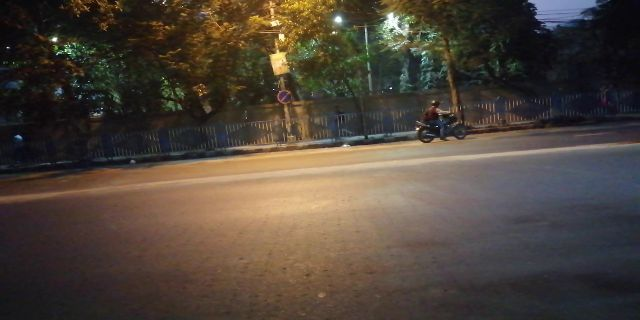Motorbike: (410, 102, 470, 141)
